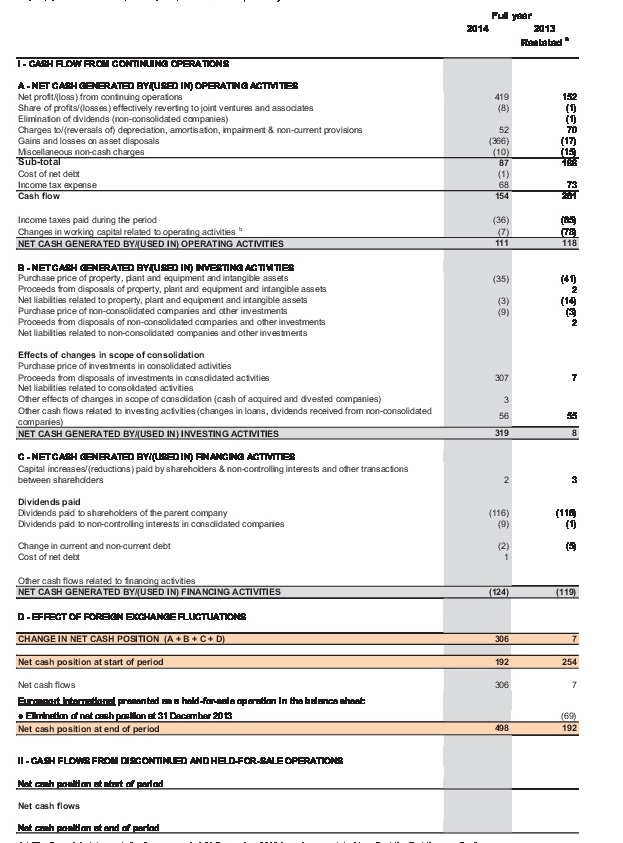table: (0, 0, 623, 843)
